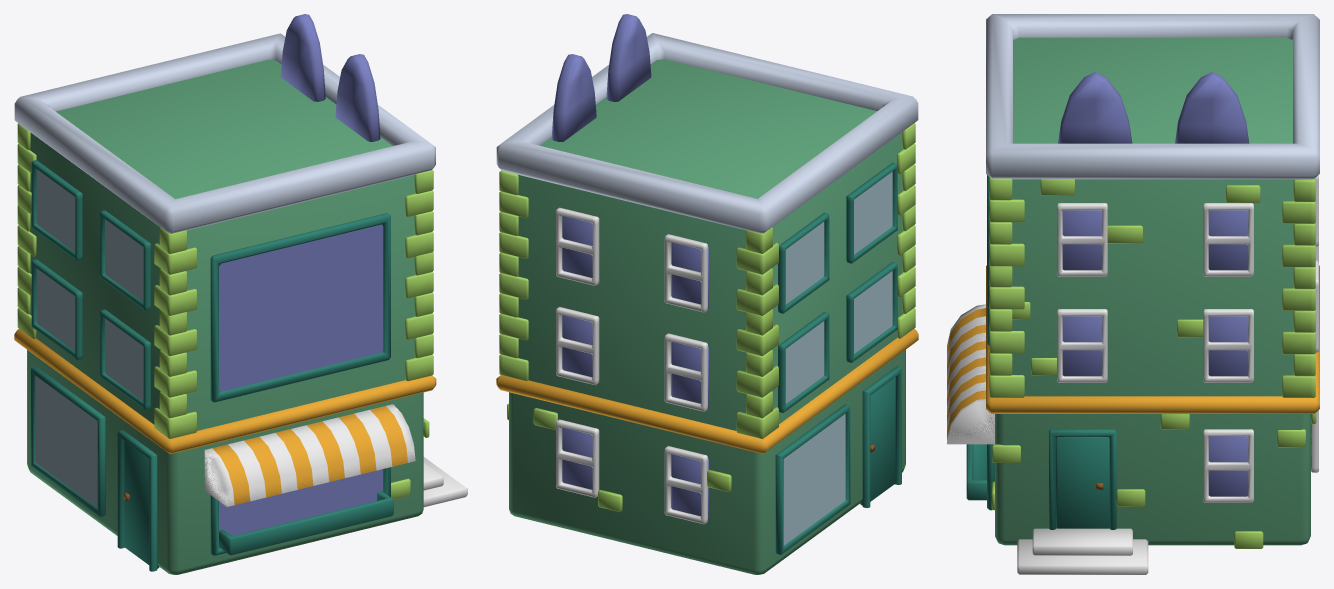
Rendered from Building_Green.fbx.
3 views of the same model, side by side, from view 1: azimuth 30°, elevation 25°; view 2: azimuth 150°, elevation 25°; view 3: azimuth 270°, elevation 25° (orthographic). The views are drawn at different scales.
Parts seen in each view (by area): view 1: Plane.847, Plane.848, Cube.199, Circle.005, Plane.865, Plane.870, Cube.204, Cube.200, Plane.873, Plane.845, Plane.846, Plane.874 (+26 smaller); view 2: Plane.847, Plane.848, Plane.865, Cube.204, Plane.846, Plane.845, Plane.874, Plane.871, Cube.202, Cube.203, Cube.198, Cube.201 (+32 smaller); view 3: Plane.847, Plane.848, Plane.865, Circle.005, Plane.823, Plane.846, Plane.845, Plane.850, Plane.851, Plane.835, Plane.836, Plane.837 (+39 smaller).
Boxes of the visible parts, x1,y1,x2,y2 form: Plane.847: [27, 59, 423, 574]; Plane.848: [14, 33, 435, 233]; Cube.199: [219, 224, 383, 391]; Circle.005: [204, 404, 415, 506]; Plane.865: [14, 329, 436, 454]; Plane.870: [210, 213, 390, 402]; Cube.204: [35, 376, 97, 507]; Cube.200: [219, 469, 383, 535]; Plane.873: [219, 491, 393, 555]; Plane.845: [280, 14, 325, 101]; Plane.846: [335, 54, 380, 141]; Plane.874: [124, 441, 159, 568]; Plane.847: [509, 59, 905, 574]; Plane.848: [496, 33, 918, 233]; Plane.865: [496, 328, 918, 453]; Cube.204: [783, 414, 845, 545]; Plane.846: [606, 14, 651, 101]; Plane.845: [551, 54, 596, 141]; Plane.874: [860, 377, 895, 505]; Plane.871: [775, 404, 850, 554]; Cube.202: [785, 222, 824, 304]; Cube.203: [785, 321, 824, 403]; Cube.198: [854, 171, 892, 254]; Cube.201: [854, 271, 892, 353]; Plane.847: [995, 37, 1310, 545]; Plane.848: [986, 14, 1319, 179]; Plane.865: [986, 265, 1319, 413]; Circle.005: [947, 304, 994, 444]; Plane.823: [1056, 437, 1109, 528]; Plane.846: [1058, 72, 1132, 143]; Plane.845: [1175, 72, 1249, 143]; Plane.850: [1017, 539, 1148, 574]; Plane.851: [1032, 528, 1132, 555]; Plane.835: [1208, 316, 1248, 376]; Plane.836: [1208, 210, 1248, 270]; Plane.837: [1062, 316, 1102, 376].
Bounding box in the file's own units: 996 × 1312 × 956.
